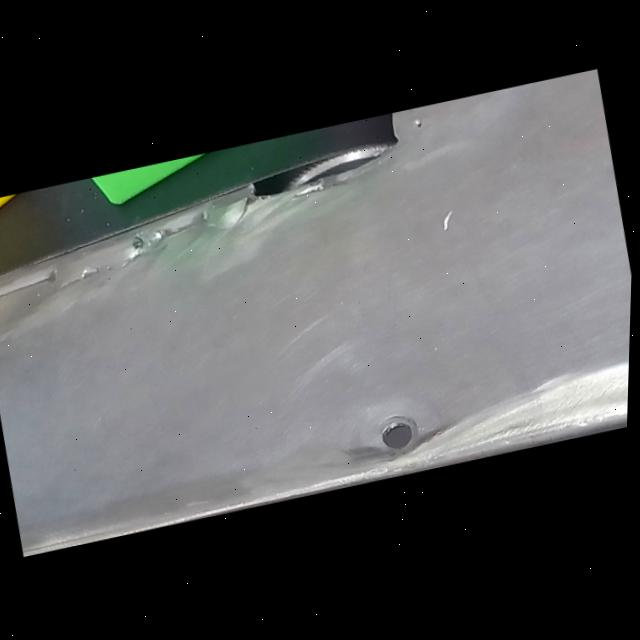greenBox: (47, 129, 338, 235)
yellowBox: (0, 190, 53, 290)
